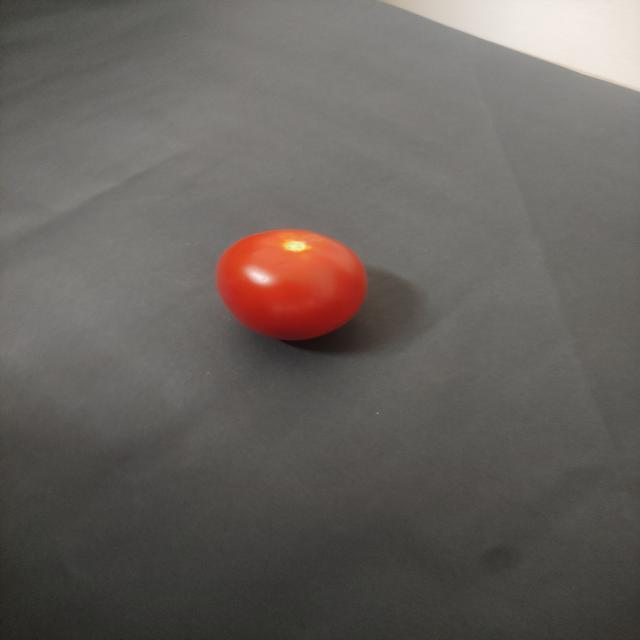kirmizi: (205, 216, 398, 354)
